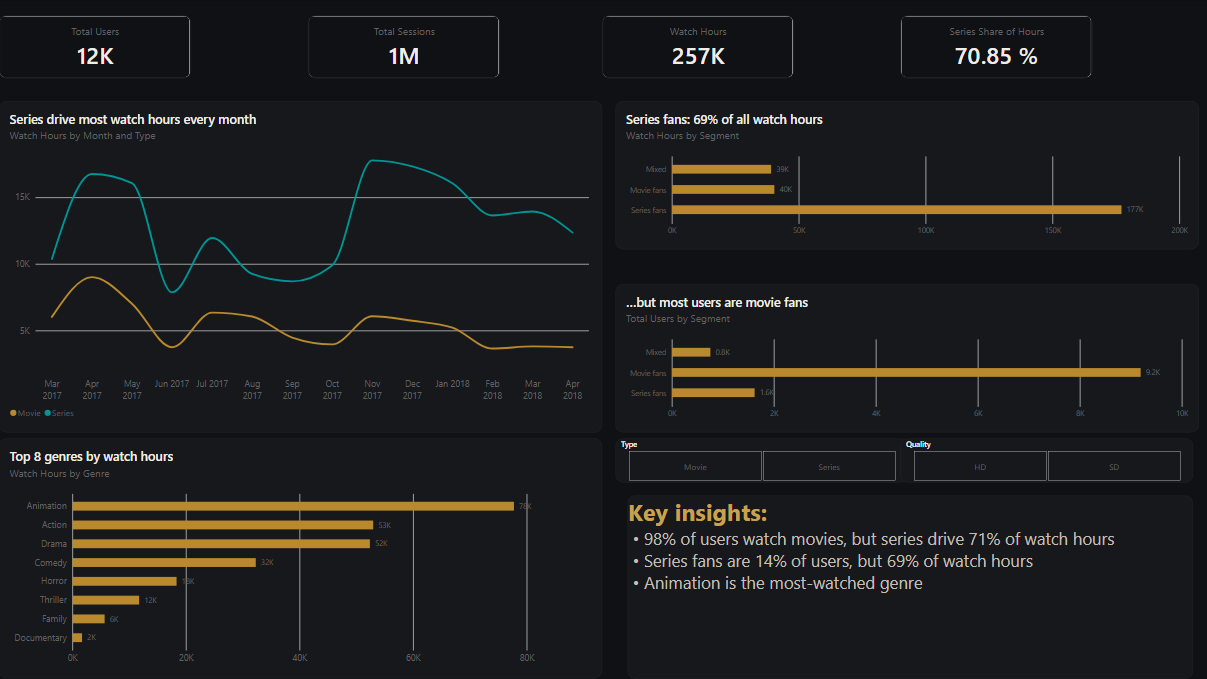

This screenshot's page, from the dashboard's own definition file:
{"tool":"powerbi","page":{"name":"Page ١","canvas":[1920,1080],"ordinal":0},"visuals":[{"type":"cardVisual","fields":{"Data":["stc_Sessions.Total Users"]},"box":[81.1,26.2,305,100],"z":0},{"type":"cardVisual","fields":{"Data":["stc_Sessions.Series Share of Hours"]},"box":[1515.1,26.2,305,100],"z":1000},{"type":"cardVisual","fields":{"Data":["stc_Sessions.Total Sessions"]},"box":[544,26.2,305,100],"z":2000},{"type":"cardVisual","fields":{"Data":["stc_Sessions.Watch Hours"]},"box":[1033.1,26.2,305,100],"z":3000},{"type":"lineChart","title":"Series drive most watch hours every month","fields":{"Category":["stc_Sessions.Month"],"Series":["stc_Sessions.Type"],"Y":["stc_Sessions.Watch Hours"]},"box":[0,162.2,959.1,527.3],"z":3001},{"type":"clusteredBarChart","title":"…but most users are movie fans","fields":{"Category":["stc_Users.Segment"],"Y":["stc_Sessions.Total Users"]},"box":[980.6,453.3,928.1,236.2],"z":3002},{"type":"clusteredBarChart","title":"Series fans: 69% of all watch hours","fields":{"Category":["stc_Users.Segment"],"Y":["stc_Sessions.Watch Hours"]},"box":[980.6,162.2,928.1,236.2],"z":3003},{"type":"clusteredBarChart","title":"Top 8 genres by watch hours","fields":{"Category":["stc_Sessions.Genre"],"Y":["stc_Sessions.Watch Hours"]},"box":[0,699,959,381],"z":3004},{"type":"slicer","fields":{"Values":["stc_Sessions.Type"]},"box":[980.6,699.1,465.3,70],"z":3005},{"type":"slicer","fields":{"Values":["stc_Sessions.Quality"]},"box":[1433.9,699.1,465.3,70],"z":3006},{"type":"textbox","box":[999.7,789.7,899.5,291.1],"z":3007}]}

Visuals, with their boxes in screenshot pixels (x1, y1, x2, y2), scaled from the page's 1920x1080 canvas onto the 1207x679 screenshot:
cardVisual - stc_Sessions.Total Users: (x1=51, y1=16, x2=243, y2=79)
cardVisual - stc_Sessions.Series Share of Hours: (x1=952, y1=16, x2=1144, y2=79)
cardVisual - stc_Sessions.Total Sessions: (x1=342, y1=16, x2=534, y2=79)
cardVisual - stc_Sessions.Watch Hours: (x1=649, y1=16, x2=841, y2=79)
"Series drive most watch hours every month" lineChart: (x1=0, y1=102, x2=603, y2=433)
"…but most users are movie fans" clusteredBarChart: (x1=616, y1=285, x2=1200, y2=433)
"Series fans: 69% of all watch hours" clusteredBarChart: (x1=616, y1=102, x2=1200, y2=250)
"Top 8 genres by watch hours" clusteredBarChart: (x1=0, y1=439, x2=603, y2=678)
slicer - stc_Sessions.Type: (x1=616, y1=440, x2=909, y2=484)
slicer - stc_Sessions.Quality: (x1=901, y1=440, x2=1194, y2=484)
textbox: (x1=628, y1=496, x2=1194, y2=678)
